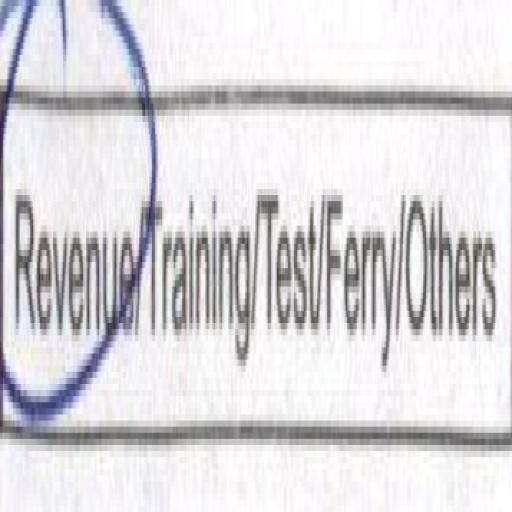check: (0, 0, 146, 499)
